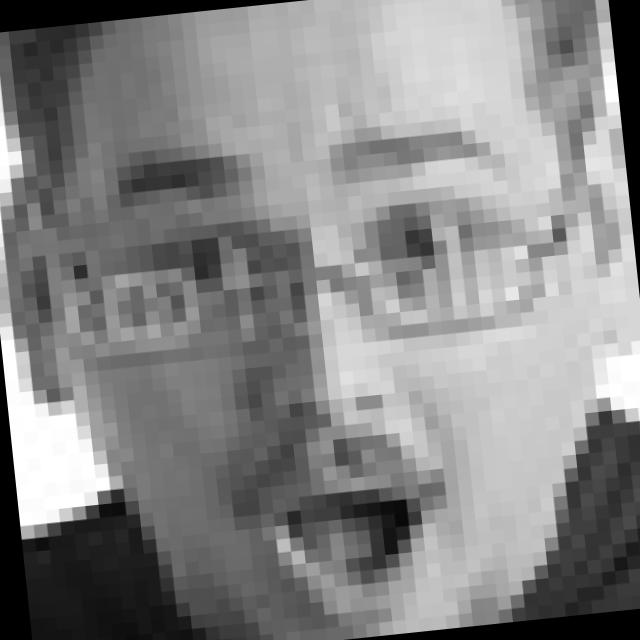surprise: (97, 107, 560, 638)
